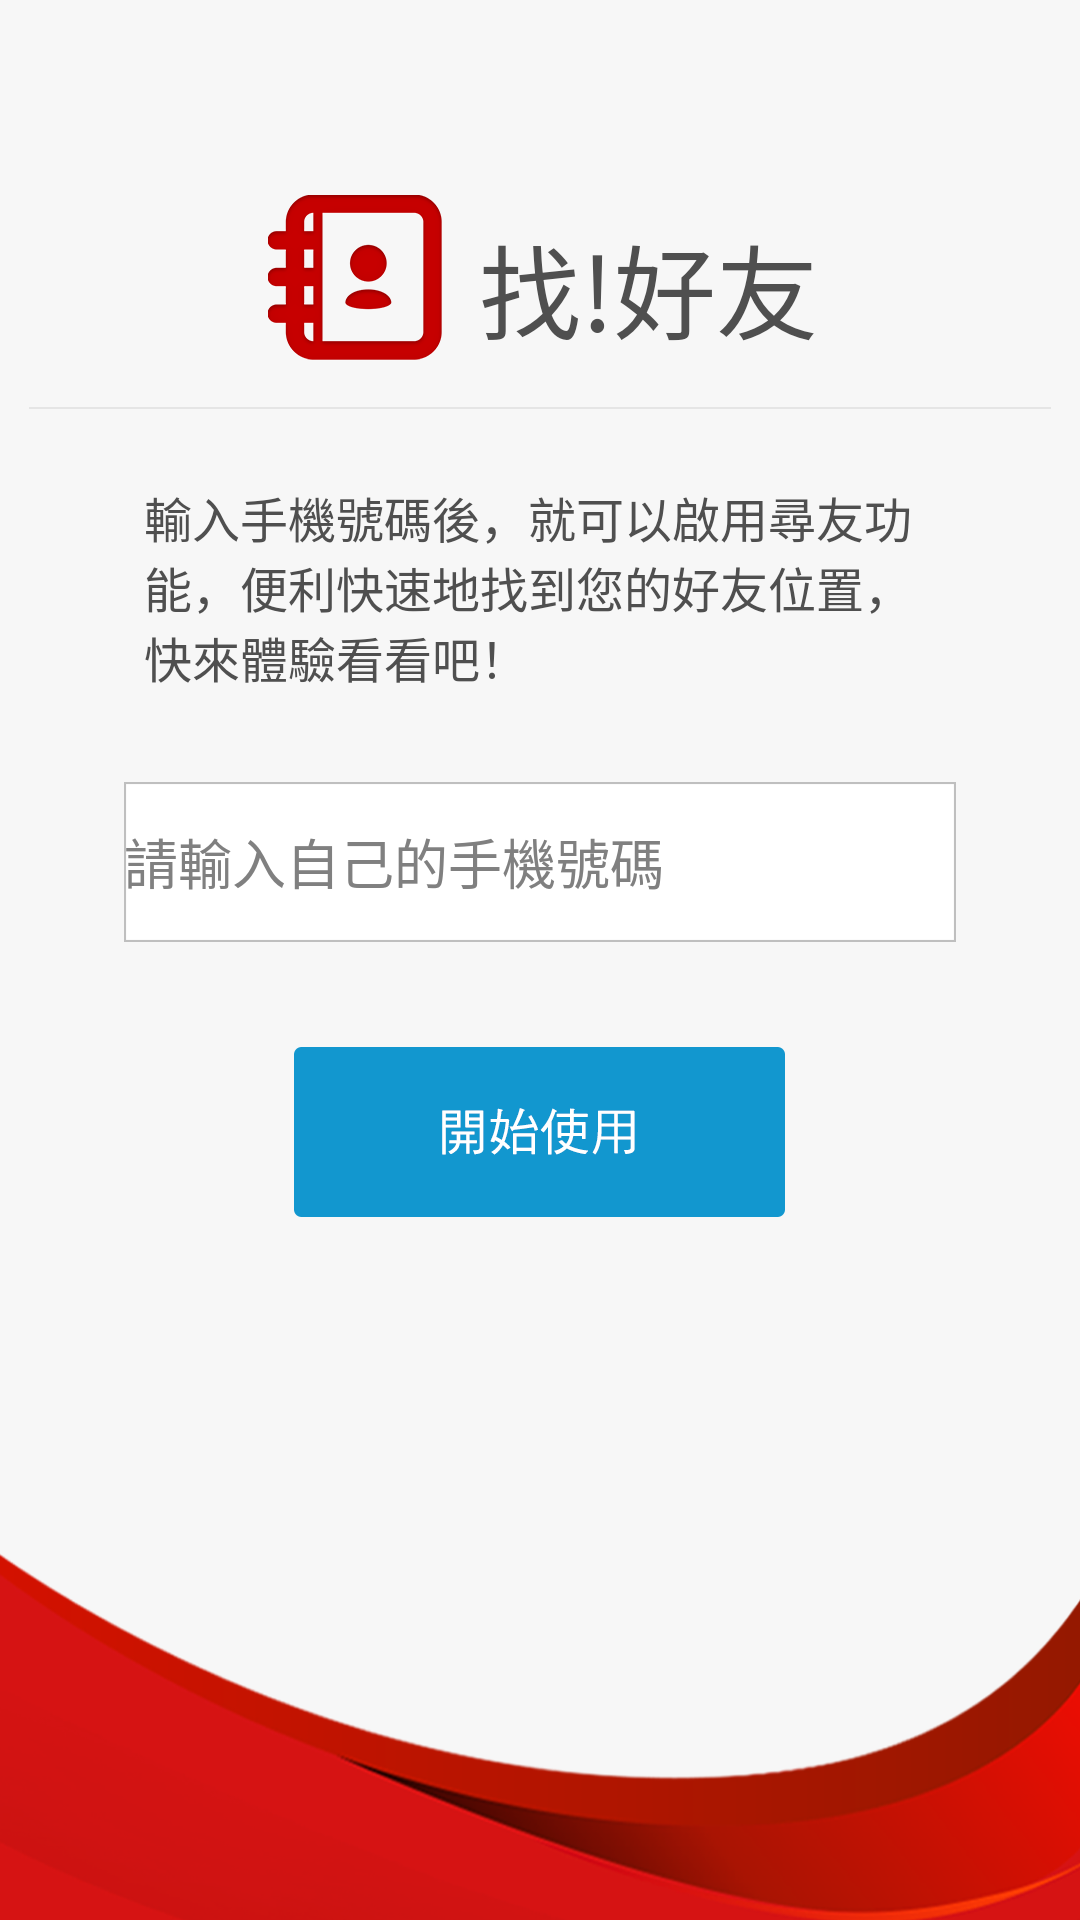

Named icons in this screenshot (1080×1920) and their centers, [x,y]:
find friend: [355,277]
